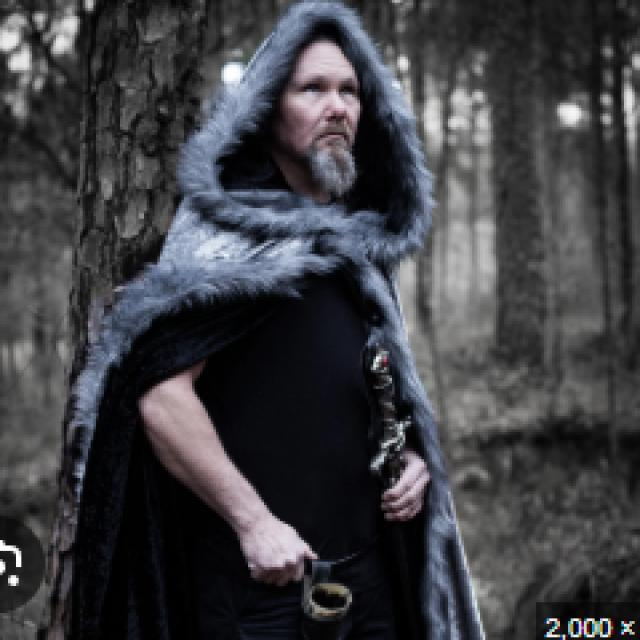4_capucha: (178, 0, 434, 256)
